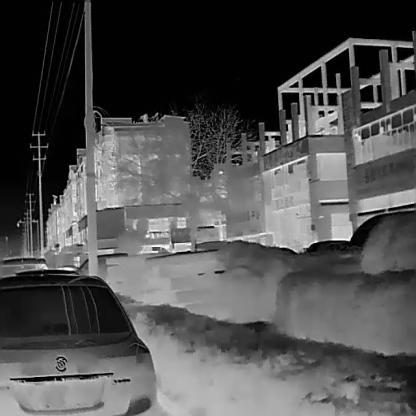car: (0, 272, 155, 414)
